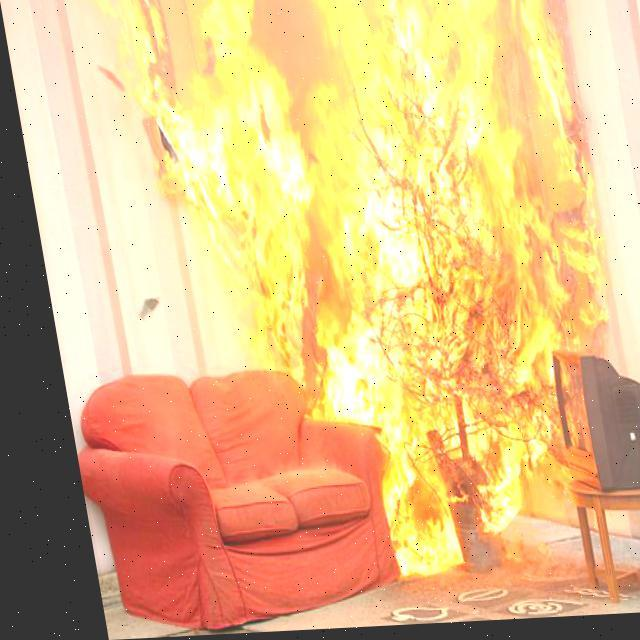Fire: (118, 0, 638, 586)
